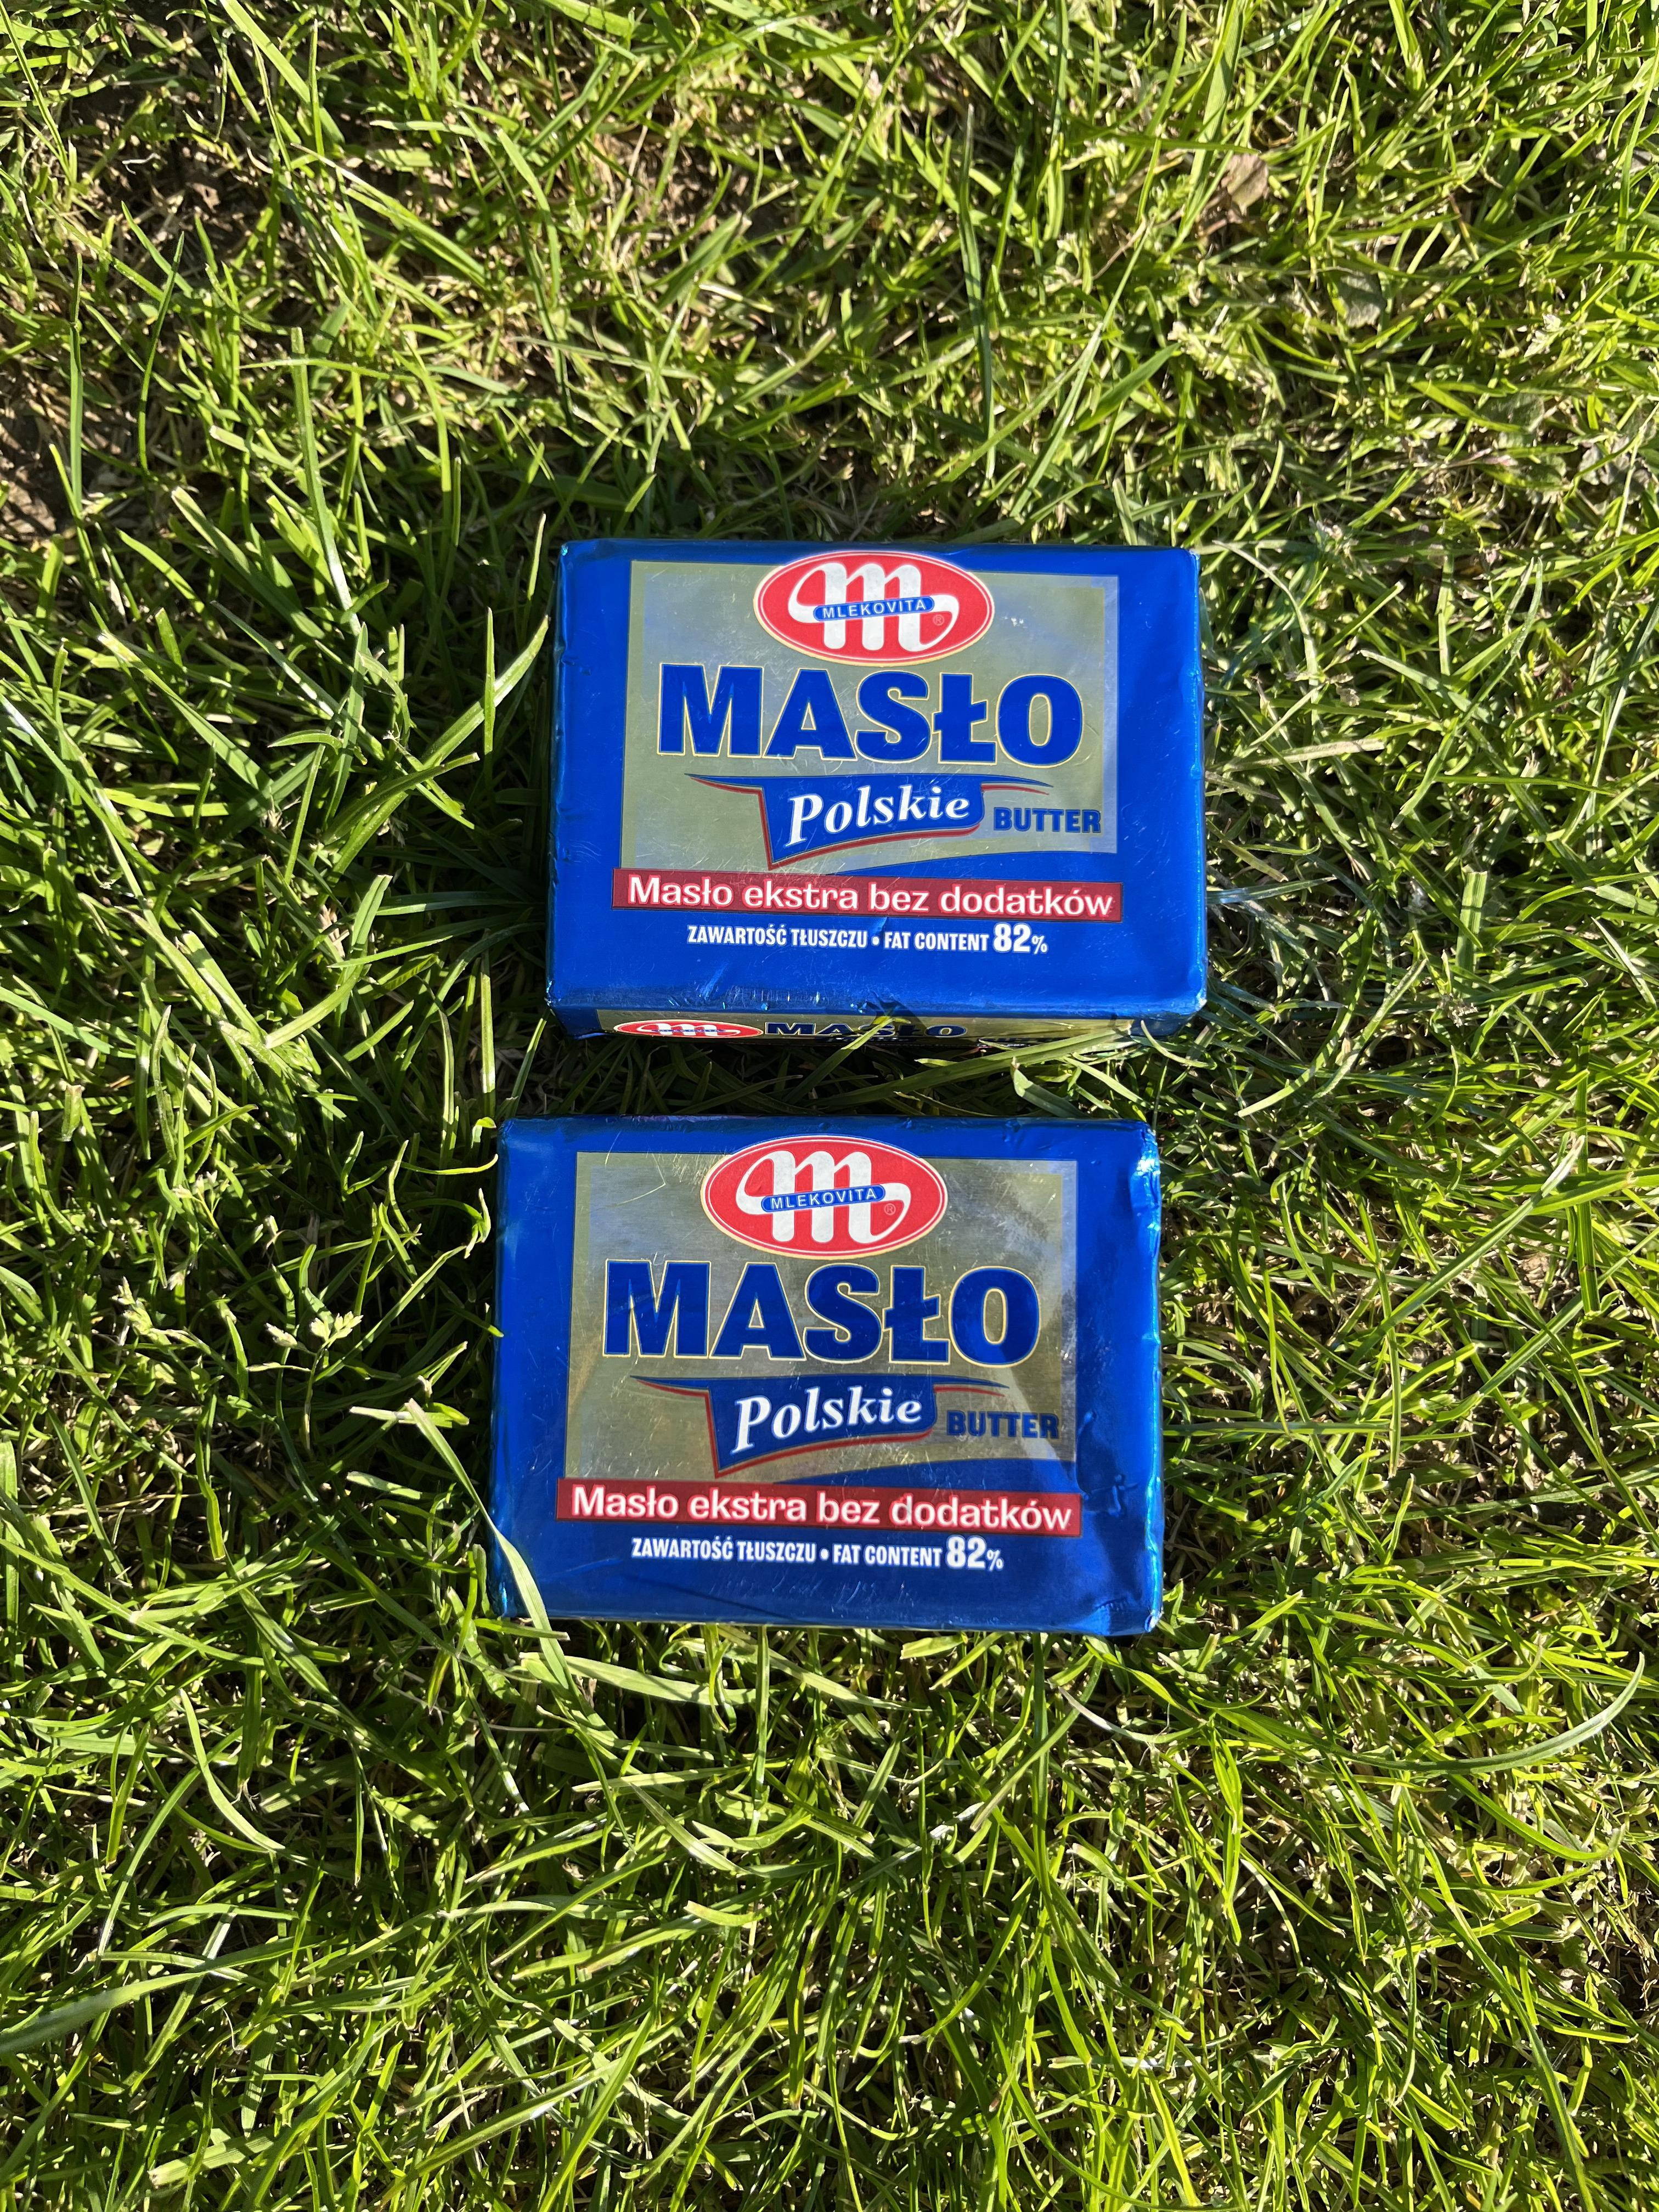Butter: (476, 1111, 1180, 1639), (545, 531, 1208, 1029)
